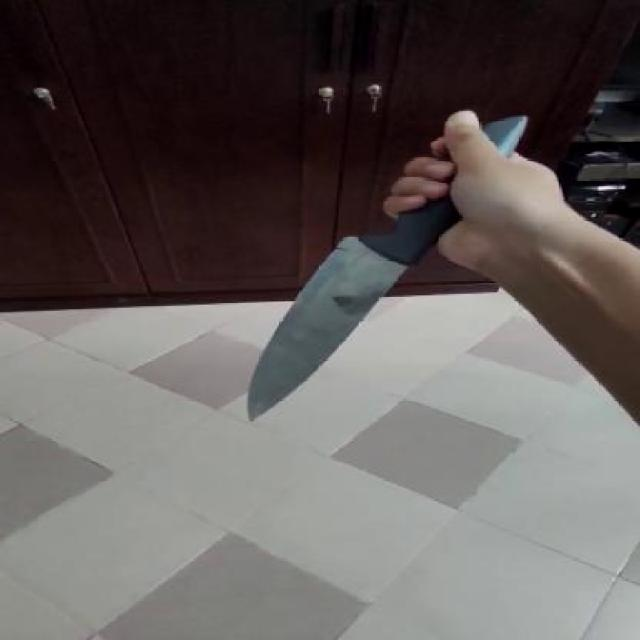knife: (237, 237, 434, 420)
